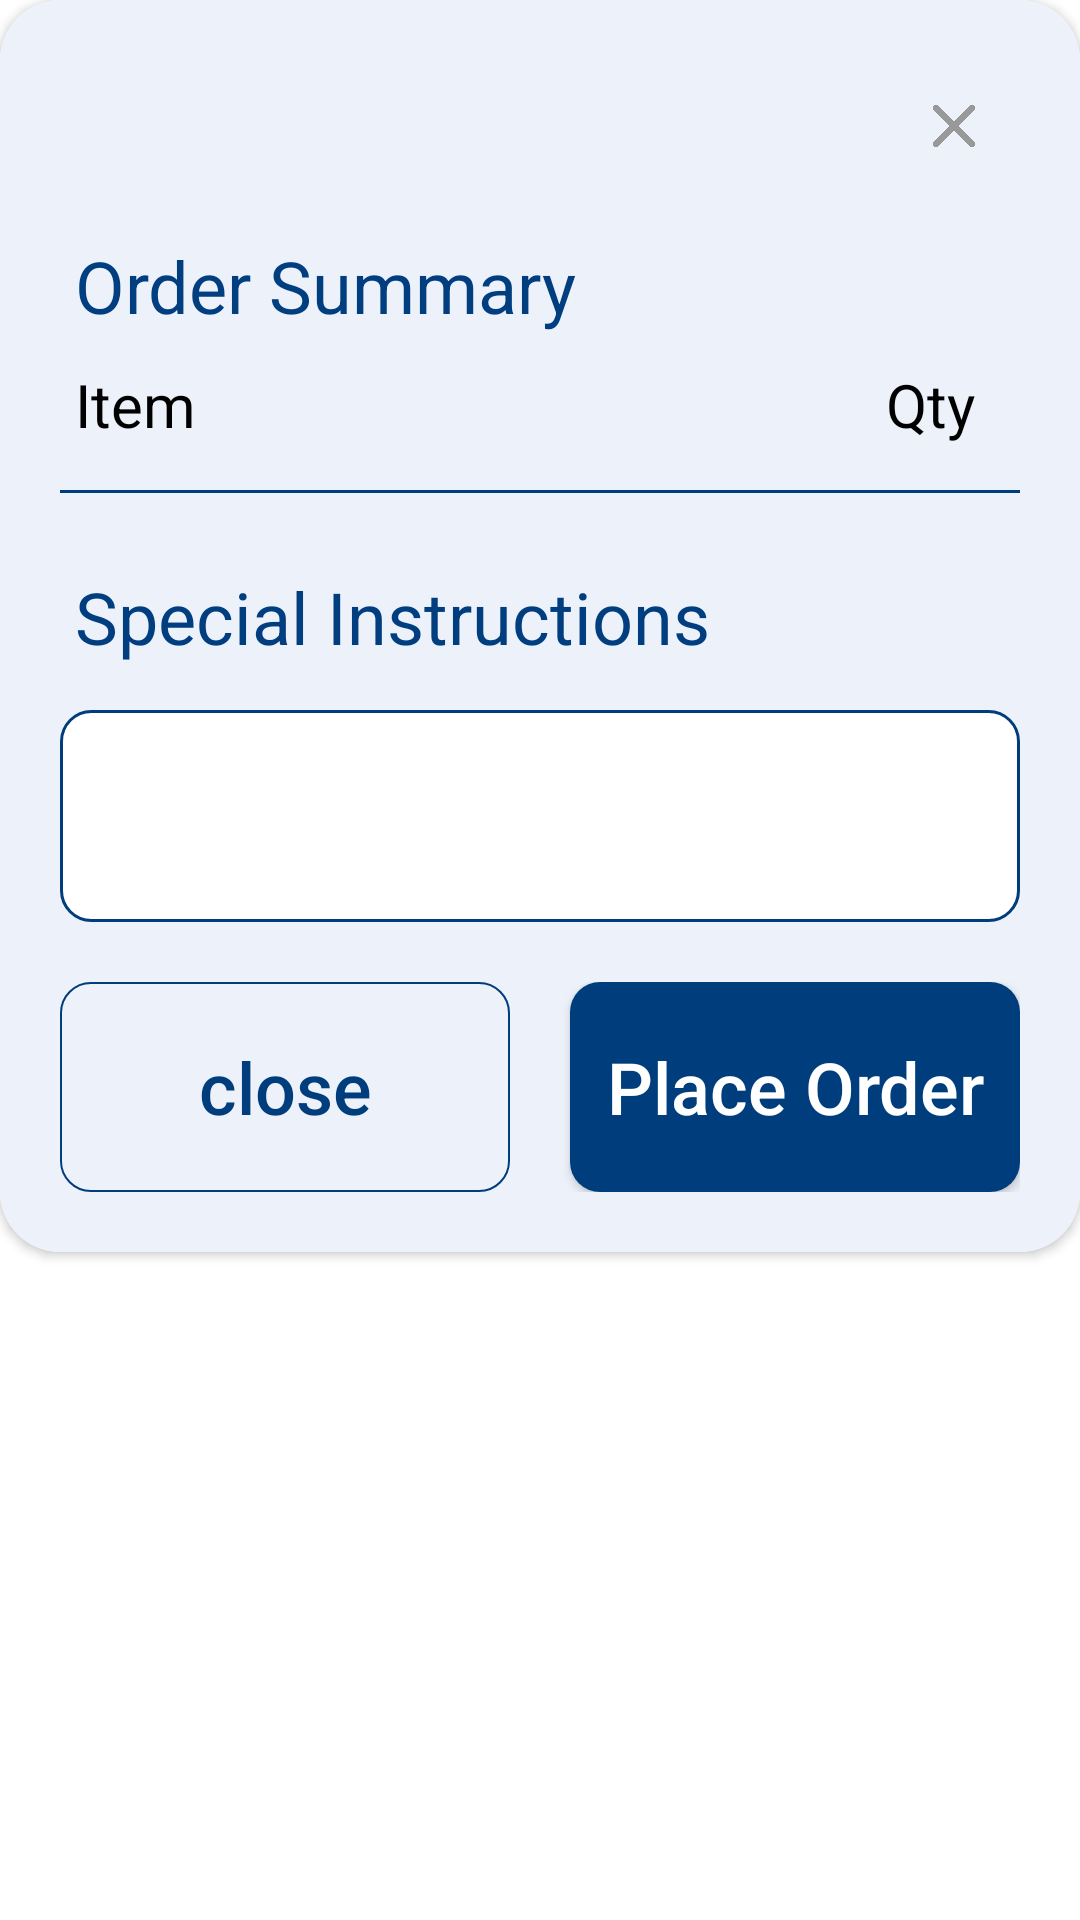

Icons on this 1080w x 1920h Android screen, each with the point to tap as (x,y):
close: (954,126)
